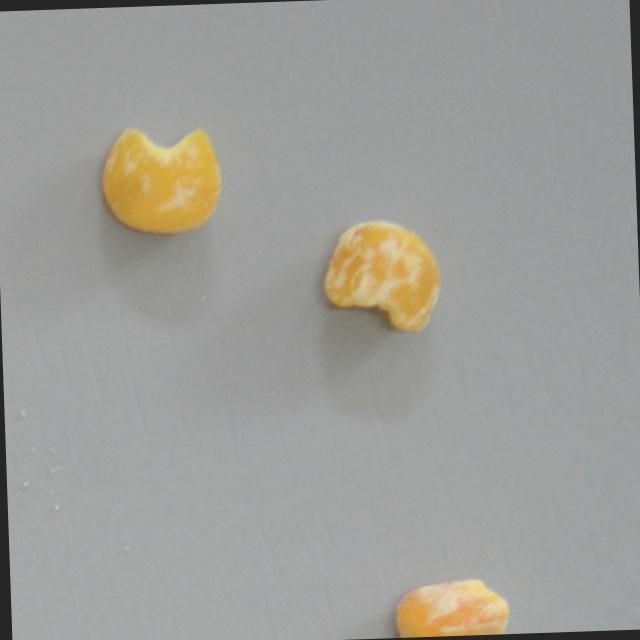pelicula: (320, 218, 446, 335), (98, 123, 223, 237), (391, 580, 509, 638)
